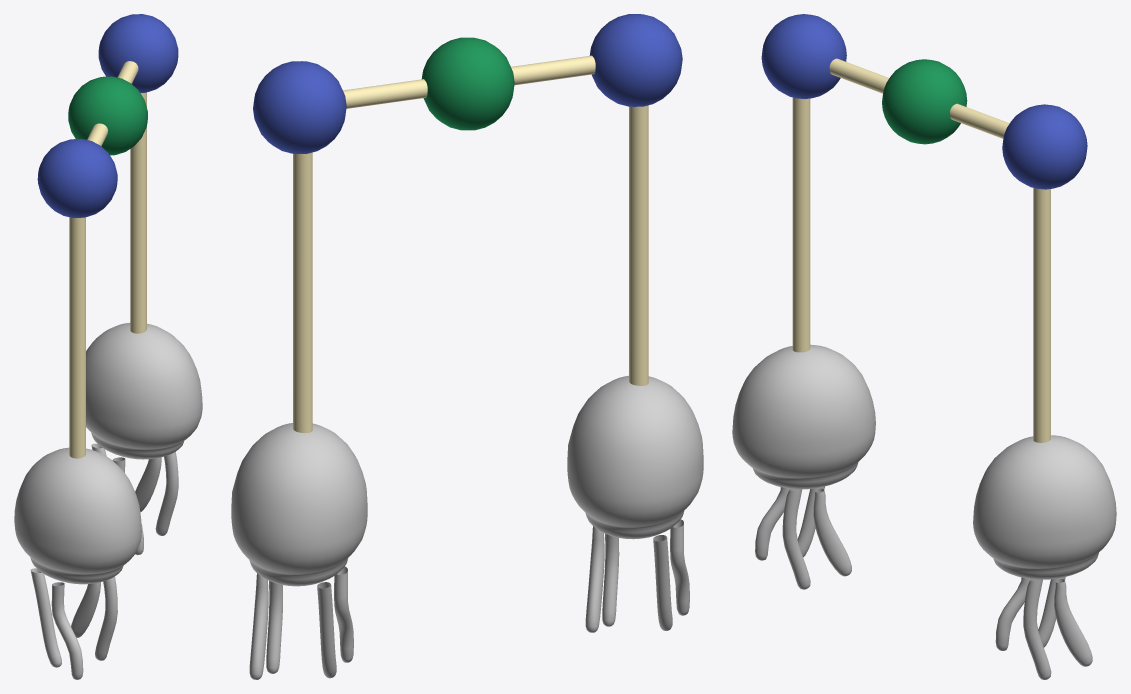
Rendered from juguete2.obj.
3 views of the same model, side by side, from view 1: azimuth 30°, elevation 25°; view 2: azimuth 150°, elevation 25°; view 3: azimuth 270°, elevation 25° (orthographic). The views are drawn at different scales.
Parts seen in each view (by area): view 1: pasted__pasted__polySurface1 group4 group3 group2 pasted__group6; view 2: pasted__pasted__polySurface1 group4 group3 group2 pasted__group6; view 3: pasted__pasted__polySurface1 group4 group3 group2 pasted__group6.
Boxes of the visible parts, <box> form: pasted__pasted__polySurface1 group4 group3 group2 pasted__group6: <box>14,14,202,679</box>; pasted__pasted__polySurface1 group4 group3 group2 pasted__group6: <box>231,14,703,679</box>; pasted__pasted__polySurface1 group4 group3 group2 pasted__group6: <box>732,14,1116,679</box>.
Size of the model in its own units: 1 by 1.83 by 1.14.
